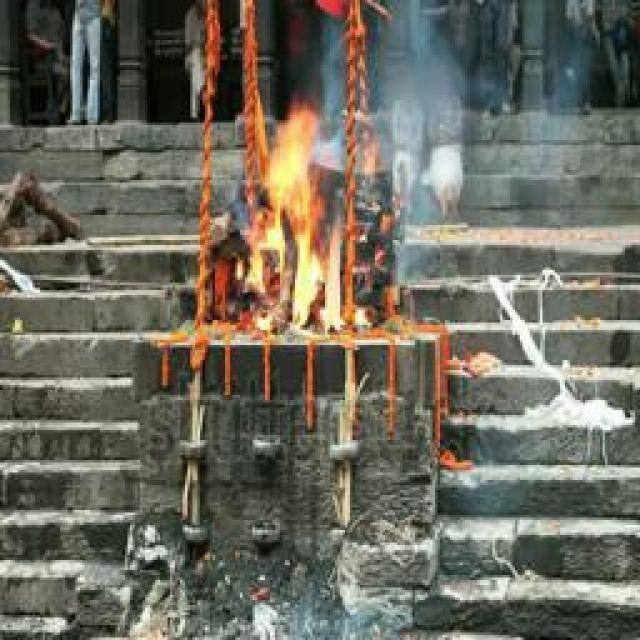Fire: (247, 109, 348, 332)
